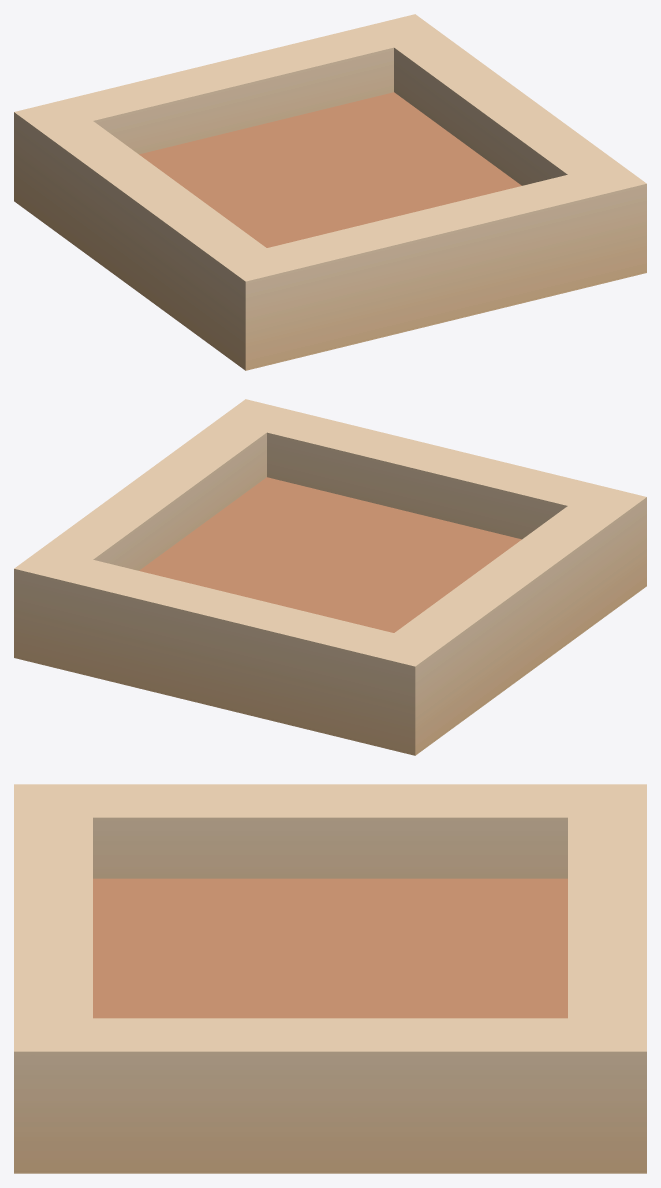
Rendered from roof-flat-border-center.glb.
3 renders of one model, top to bottom at view 1: azimuth 30°, elevation 25°; view 2: azimuth 150°, elevation 25°; view 3: azimuth 270°, elevation 25°, orthographic. The views are drawn at different scales.
Parts seen in each view (by area): view 1: roof-flat-border-center; view 2: roof-flat-border-center; view 3: roof-flat-border-center.
Boxes of the visible parts, x1=… form: roof-flat-border-center: x1=14, y1=14, x2=646, y2=370; roof-flat-border-center: x1=14, y1=399, x2=646, y2=755; roof-flat-border-center: x1=14, y1=784, x2=646, y2=1173.
Bounding box in the file's own units: 1 × 0.2125 × 1.
Materials: 1 (1 with a texture image).
